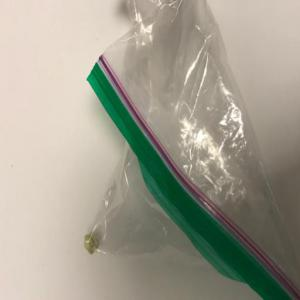Trash: (83, 1, 300, 300)
